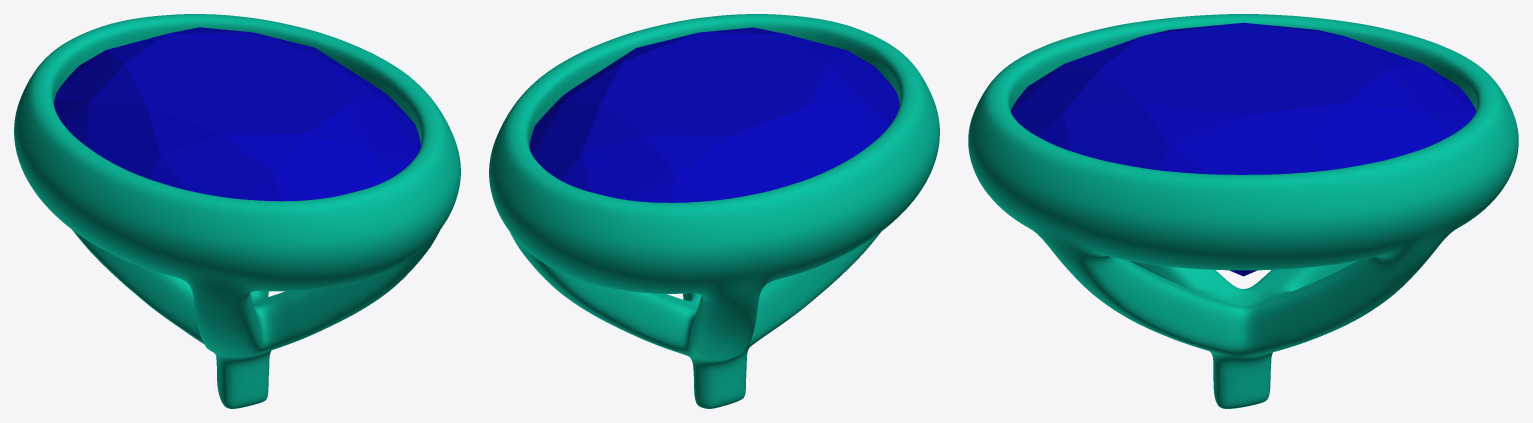
Rendered from Oval.glb.
The picture shows the model from 3 angles, left to right: view 1: azimuth 30°, elevation 25°; view 2: azimuth 150°, elevation 25°; view 3: azimuth 270°, elevation 25°; orthographic projection. The views are drawn at different scales.
Visible parts, largest first — view 1: /GSMOD388300- BEZEL_Oval_IJ.3dm, Diamond_Oval; view 2: /GSMOD388300- BEZEL_Oval_IJ.3dm, Diamond_Oval; view 3: /GSMOD388300- BEZEL_Oval_IJ.3dm, Diamond_Oval.
Part boxes in pixels (bbox=[...]): /GSMOD388300- BEZEL_Oval_IJ.3dm: bbox=[14, 14, 460, 408]; Diamond_Oval: bbox=[54, 27, 420, 201]; /GSMOD388300- BEZEL_Oval_IJ.3dm: bbox=[489, 14, 939, 408]; Diamond_Oval: bbox=[529, 27, 899, 202]; /GSMOD388300- BEZEL_Oval_IJ.3dm: bbox=[968, 14, 1518, 408]; Diamond_Oval: bbox=[1010, 22, 1476, 276].
Size of the model in its own units: 7.91 by 6.6 by 9.9.
